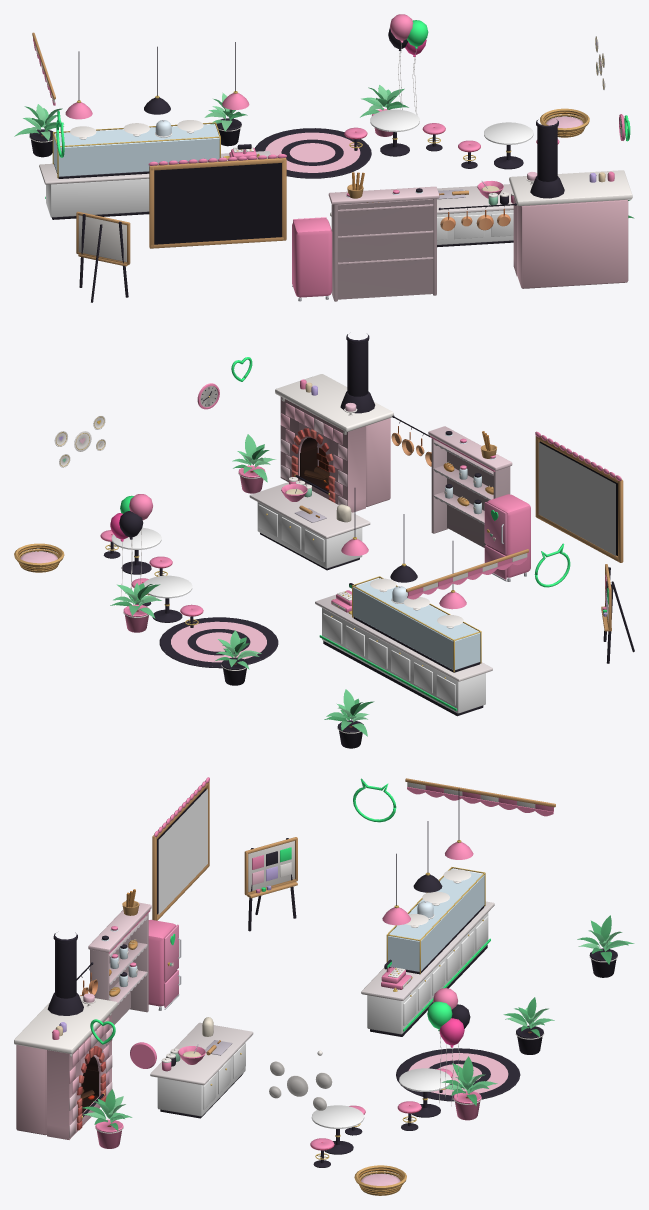
File: zon_room_bakery.glb
3 renders of one model, top to bottom at view 1: azimuth 30°, elevation 25°; view 2: azimuth 150°, elevation 25°; view 3: azimuth 270°, elevation 25°, orthographic. The views are drawn at different scales.
Parts seen in each view (by area): view 1: SM_zon_room_bakery_room_floor_plaster_xm1_z1, SM_zon_room_bakery_room_floor_wood_xm1_z1, SM_zon_room_bakery_room_floor_gloss_xm1_z1, SM_zon_room_bakery_room_floor_glaze_xm1_z1, SM_zon_room_bakery_kit_interior_xm1_z1, SM_zon_room_bakery_bakery_glass_xm1_z1, SM_zon_room_bakery_room_floor_fabric_xm1_z1, ANIM_fur_bk_decor_plant_2__0, ANIM_fur_bk_decor_basket__0, ANIM_fur_bk_decor_plant_1__0, ANIM_fur_bk_decor_plant_0__0, ANIM_fur_bk_decor_balloon_3__0 (+1 smaller); view 2: SM_zon_room_bakery_room_floor_gloss_xm1_z1, SM_zon_room_bakery_room_floor_glaze_xm1_z1, SM_zon_room_bakery_kit_interior_xm1_z1, SM_zon_room_bakery_room_floor_plaster_xm1_z1, SM_zon_room_bakery_room_floor_wood_xm1_z1, SCREEN_fur_bk_menu__0, SM_zon_room_bakery_bakery_glass_xm1_z1, SM_zon_room_bakery_room_floor_fabric_xm1_z1, ANIM_fur_bk_decor_plant_2__0, ANIM_fur_bk_decor_plant_0__0, ANIM_fur_bk_decor_plant_3__0, ANIM_fur_bk_decor_plant_1__0 (+2 smaller); view 3: SM_zon_room_bakery_room_floor_gloss_xm1_z1, SM_zon_room_bakery_room_floor_glaze_xm1_z1, SM_zon_room_bakery_room_floor_plaster_xm1_z1, SM_zon_room_bakery_kit_interior_xm1_z1, SM_zon_room_bakery_room_floor_wood_xm1_z1, SM_zon_room_bakery_bakery_glass_xm1_z1, SCREEN_fur_bk_menu__0, SM_zon_room_bakery_room_floor_fabric_xm1_z1, ANIM_fur_bk_decor_plant_0__0, ANIM_fur_bk_decor_plant_2__0, ANIM_fur_bk_decor_plant_3__0, ANIM_fur_bk_decor_plant_1__0 (+4 smaller).
Boxes of the visible parts, box(x1,y1,x2,y2) form: SM_zon_room_bakery_room_floor_plaster_xm1_z1: box(154, 132, 628, 288); SM_zon_room_bakery_room_floor_wood_xm1_z1: box(32, 32, 468, 301); SM_zon_room_bakery_room_floor_gloss_xm1_z1: box(51, 37, 625, 302); SM_zon_room_bakery_room_floor_glaze_xm1_z1: box(39, 36, 632, 262); SM_zon_room_bakery_kit_interior_xm1_z1: box(46, 109, 533, 244); SM_zon_room_bakery_bakery_glass_xm1_z1: box(53, 124, 219, 176); SM_zon_room_bakery_room_floor_fabric_xm1_z1: box(33, 38, 559, 198); ANIM_fur_bk_decor_plant_2__0: box(14, 104, 63, 157); ANIM_fur_bk_decor_basket__0: box(540, 108, 589, 137); ANIM_fur_bk_decor_plant_1__0: box(204, 93, 247, 146); ANIM_fur_bk_decor_plant_0__0: box(360, 85, 408, 136); ANIM_fur_bk_decor_balloon_3__0: box(390, 14, 413, 109); SM_zon_room_bakery_room_floor_gloss_xm1_z1: box(56, 334, 634, 716); SM_zon_room_bakery_room_floor_glaze_xm1_z1: box(54, 374, 621, 681); SM_zon_room_bakery_kit_interior_xm1_z1: box(111, 502, 485, 713); SM_zon_room_bakery_room_floor_plaster_xm1_z1: box(171, 397, 617, 662); SM_zon_room_bakery_room_floor_wood_xm1_z1: box(299, 426, 623, 631); SCREEN_fur_bk_menu__0: box(538, 442, 615, 555); SM_zon_room_bakery_bakery_glass_xm1_z1: box(353, 578, 480, 669); SM_zon_room_bakery_room_floor_fabric_xm1_z1: box(100, 442, 527, 668); ANIM_fur_bk_decor_plant_2__0: box(324, 689, 374, 748); ANIM_fur_bk_decor_plant_0__0: box(110, 583, 161, 632); ANIM_fur_bk_decor_plant_3__0: box(232, 434, 275, 493); ANIM_fur_bk_decor_plant_1__0: box(215, 630, 261, 685); SM_zon_room_bakery_room_floor_gloss_xm1_z1: box(47, 788, 518, 1167); SM_zon_room_bakery_room_floor_glaze_xm1_z1: box(14, 777, 494, 1137); SM_zon_room_bakery_room_floor_plaster_xm1_z1: box(16, 788, 508, 1139); SM_zon_room_bakery_kit_interior_xm1_z1: box(157, 912, 488, 1128); SM_zon_room_bakery_room_floor_wood_xm1_z1: box(80, 778, 555, 1100); SM_zon_room_bakery_bakery_glass_xm1_z1: box(388, 869, 484, 971); SCREEN_fur_bk_menu__0: box(158, 789, 207, 914); SM_zon_room_bakery_room_floor_fabric_xm1_z1: box(109, 782, 553, 1150); ANIM_fur_bk_decor_plant_0__0: box(441, 1056, 497, 1120); ANIM_fur_bk_decor_plant_2__0: box(577, 915, 634, 977); ANIM_fur_bk_decor_plant_3__0: box(82, 1089, 132, 1148); ANIM_fur_bk_decor_plant_1__0: box(503, 997, 554, 1054).
Bounding box in the file's own units: 15.37 × 4.31 × 14.18.
